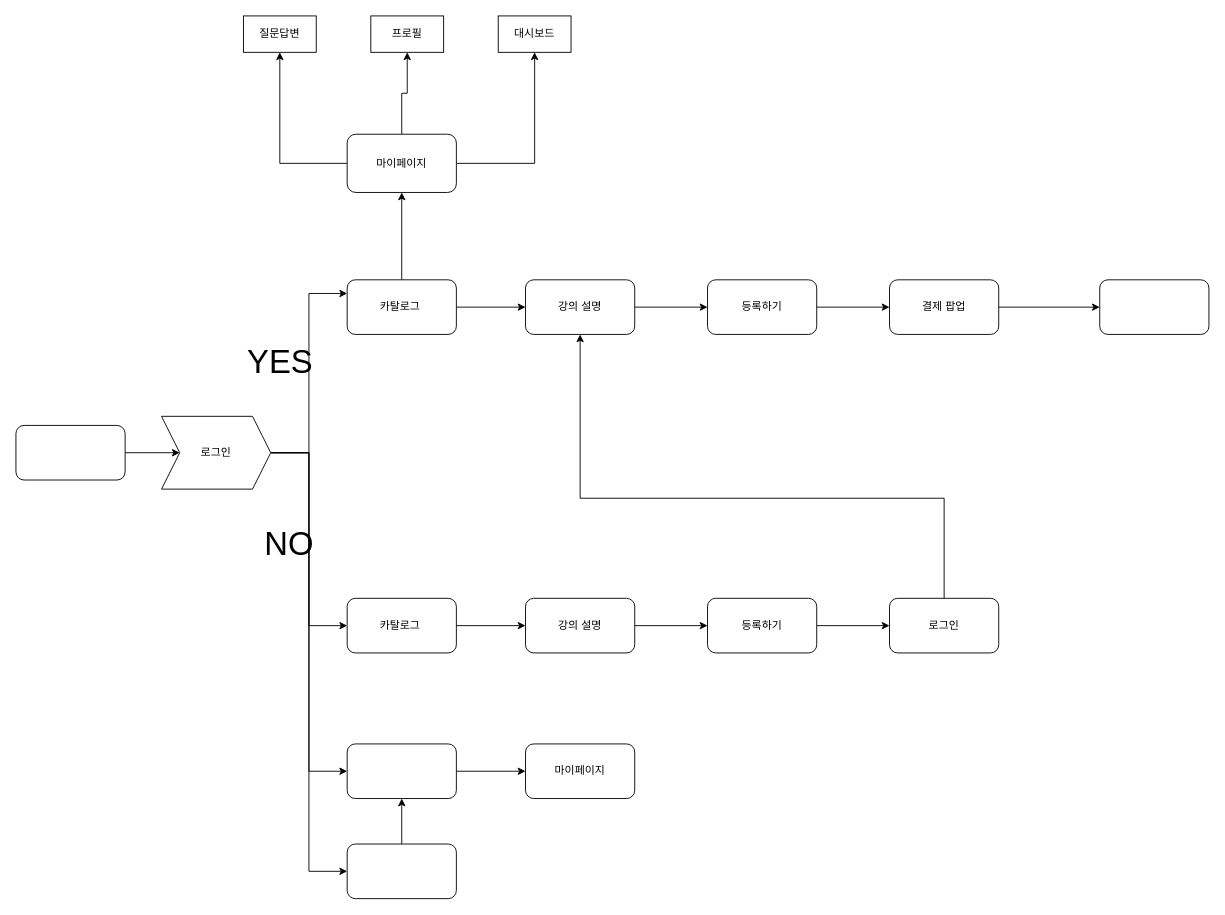
Image size: 1225x915. Some labels were removed from this diagram. The shapes that lost their labels are listed below. From the top down, each one's centre as x and y in pixels, then its label:
(1154,306): 수강페이지
(70,452): 메인페이지
(401,771): 로그인페이지
(401,871): 회원가입
